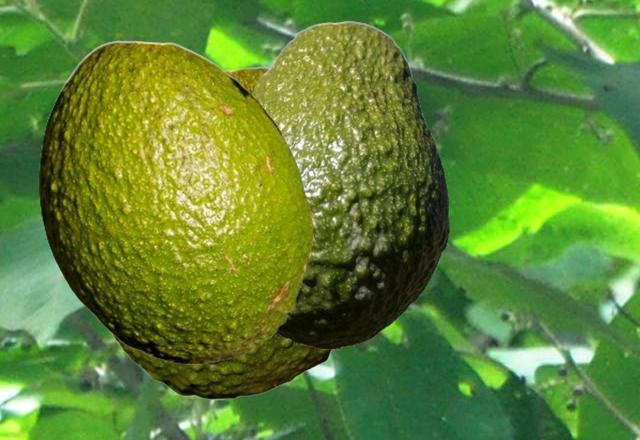avocado: (38, 40, 312, 363), (111, 66, 342, 398), (250, 20, 448, 348)
